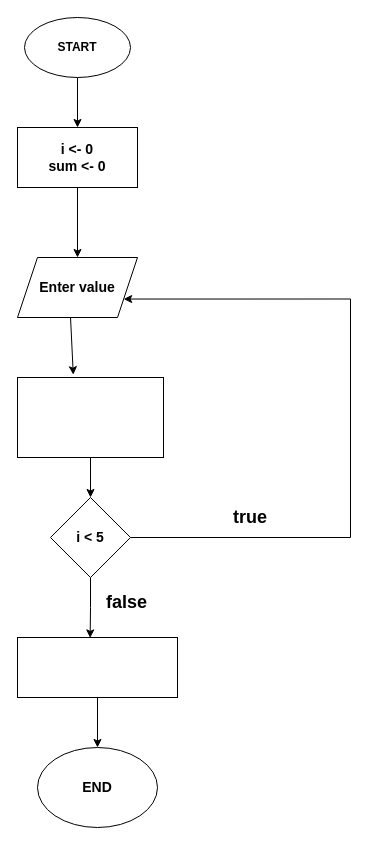
Some shapes in this 376 by 845 pixel diagram are drawn without their labels. The shapes that lost their labels are listed below. From the top down, each one's centre as x and y in pixels, then its label:
pixel 90 417: sum <- sum + value i <- i + 1
pixel 97 667: Print "sum of values is" Print "sum"
